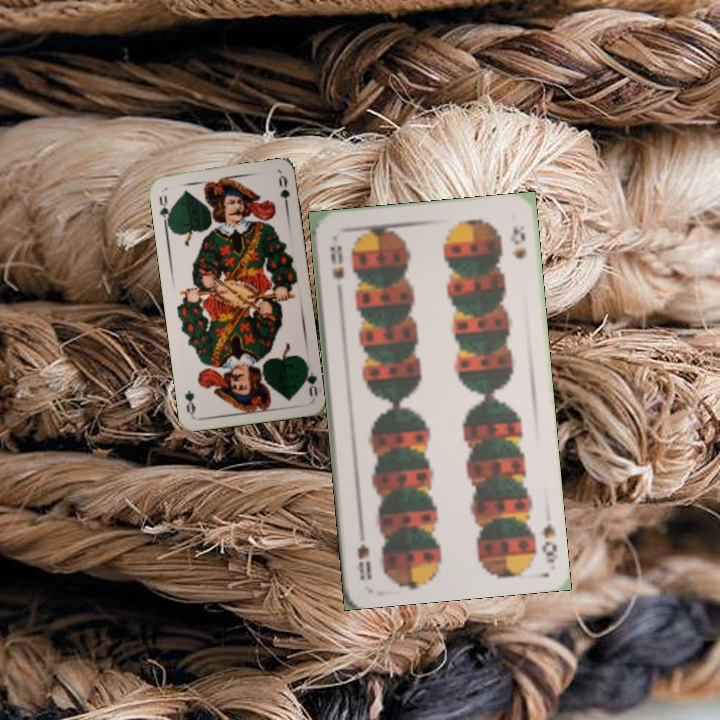GO: (299, 360, 320, 399), (155, 192, 174, 229)
S8: (536, 519, 560, 566), (326, 242, 347, 283)
